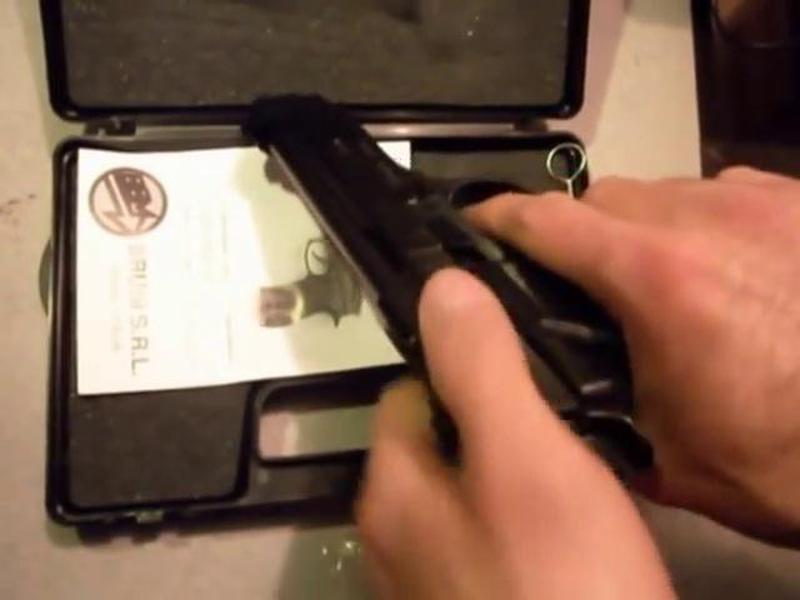Pistola: (220, 62, 692, 484)
